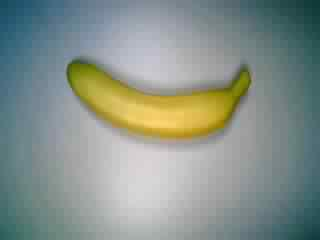banana: (65, 57, 252, 141)
